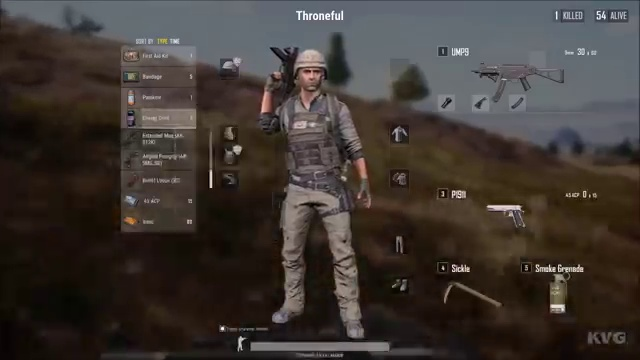Player: (257, 47, 376, 321)
